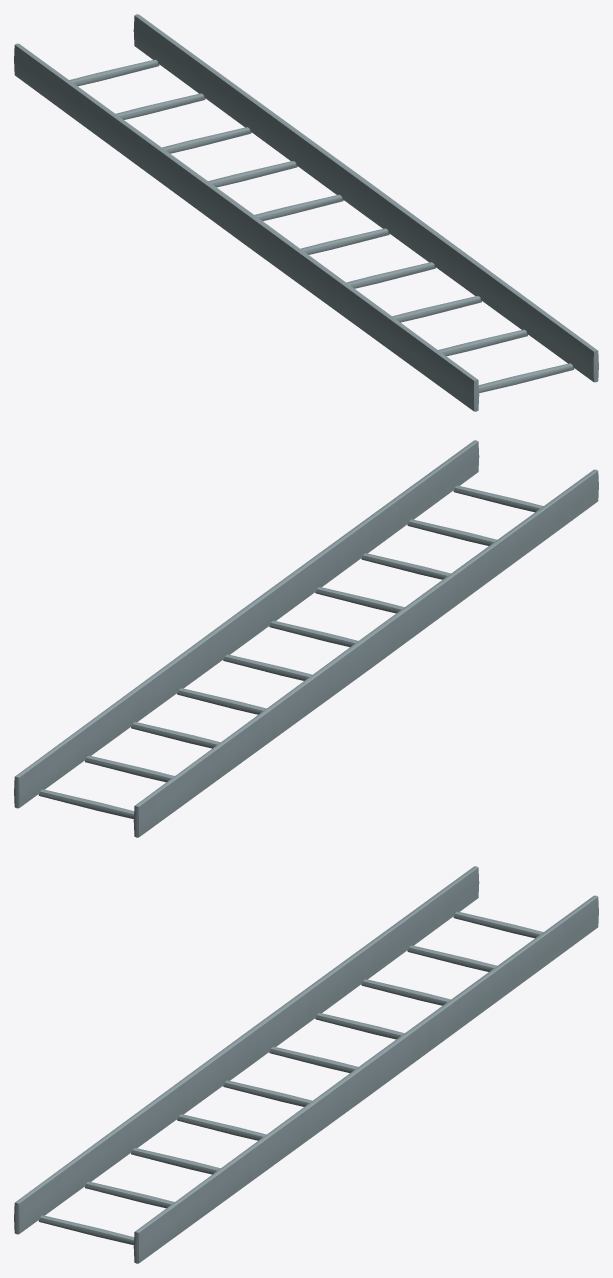
File: cable-tray.glb
3 views of the same model, one above another, from view 1: azimuth 30°, elevation 25°; view 2: azimuth 150°, elevation 25°; view 3: azimuth 330°, elevation 25° (orthographic).
Parts seen in each view (by area): view 1: cable-tray; view 2: cable-tray; view 3: cable-tray.
Boxes of the visible parts, x1=… form: cable-tray: x1=14, y1=14, x2=598, y2=411; cable-tray: x1=14, y1=440, x2=598, y2=837; cable-tray: x1=14, y1=866, x2=598, y2=1263.
Size of the model in its own units: 0.318 by 0.087 by 2.
Materials: 12 (12 with a texture image).
